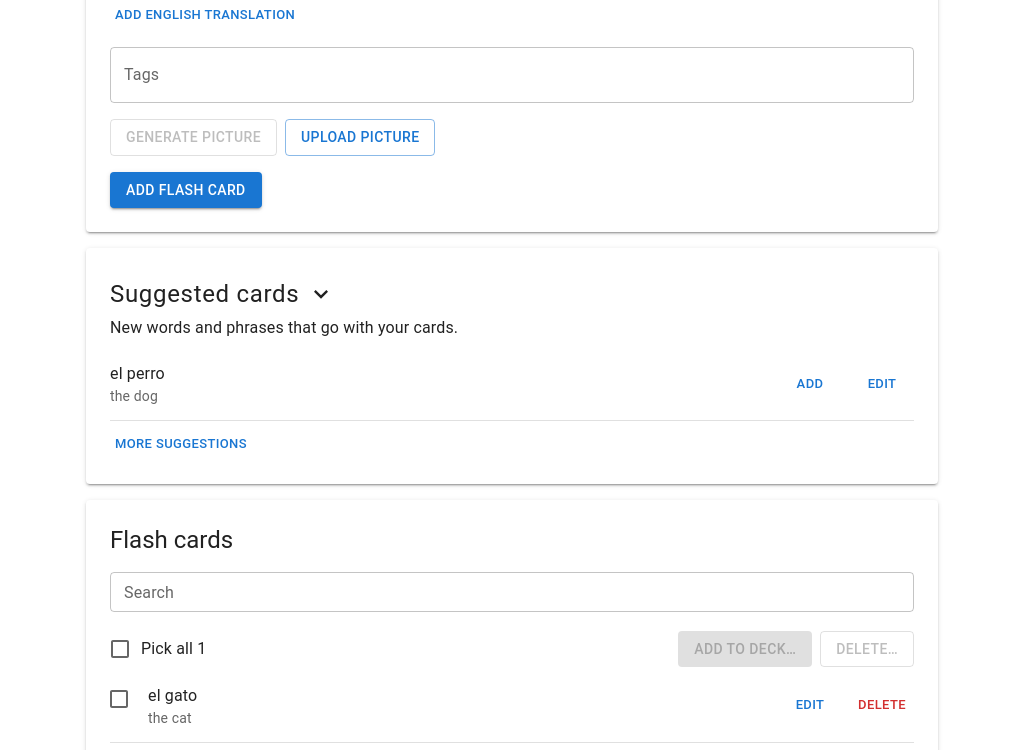
Test: suggested cards › keeps a suggestion that fails to save and says why
The width and height of the screenshot is (1024, 750).
(page scrolled)
Expected: the text "el gato" is shown, [148,686,197,705]
Expected: the list named "Suggested cards" is shown, [110,348,914,421]
Click the button named "Add \"el perro\"" at (810, 384), box [778,369,842,400]
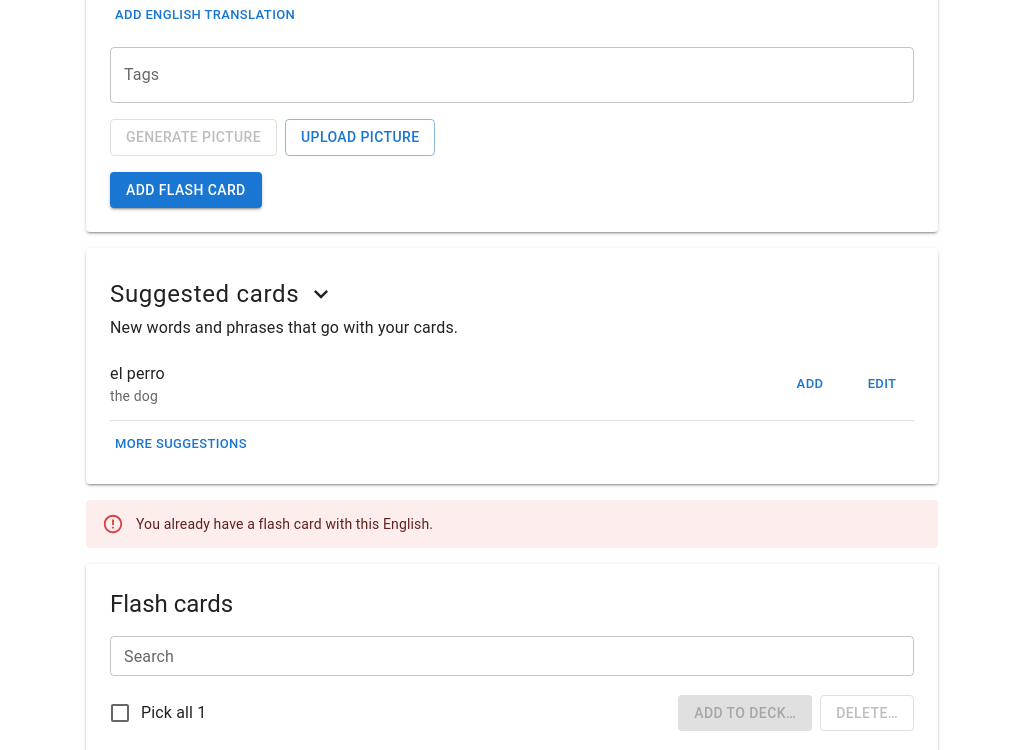
Expected: the list named "Suggested cards" shows "el perro", [110,364,165,383]
Result: the message reads "You already have a flash card with this English." at [136,516,433,532]
